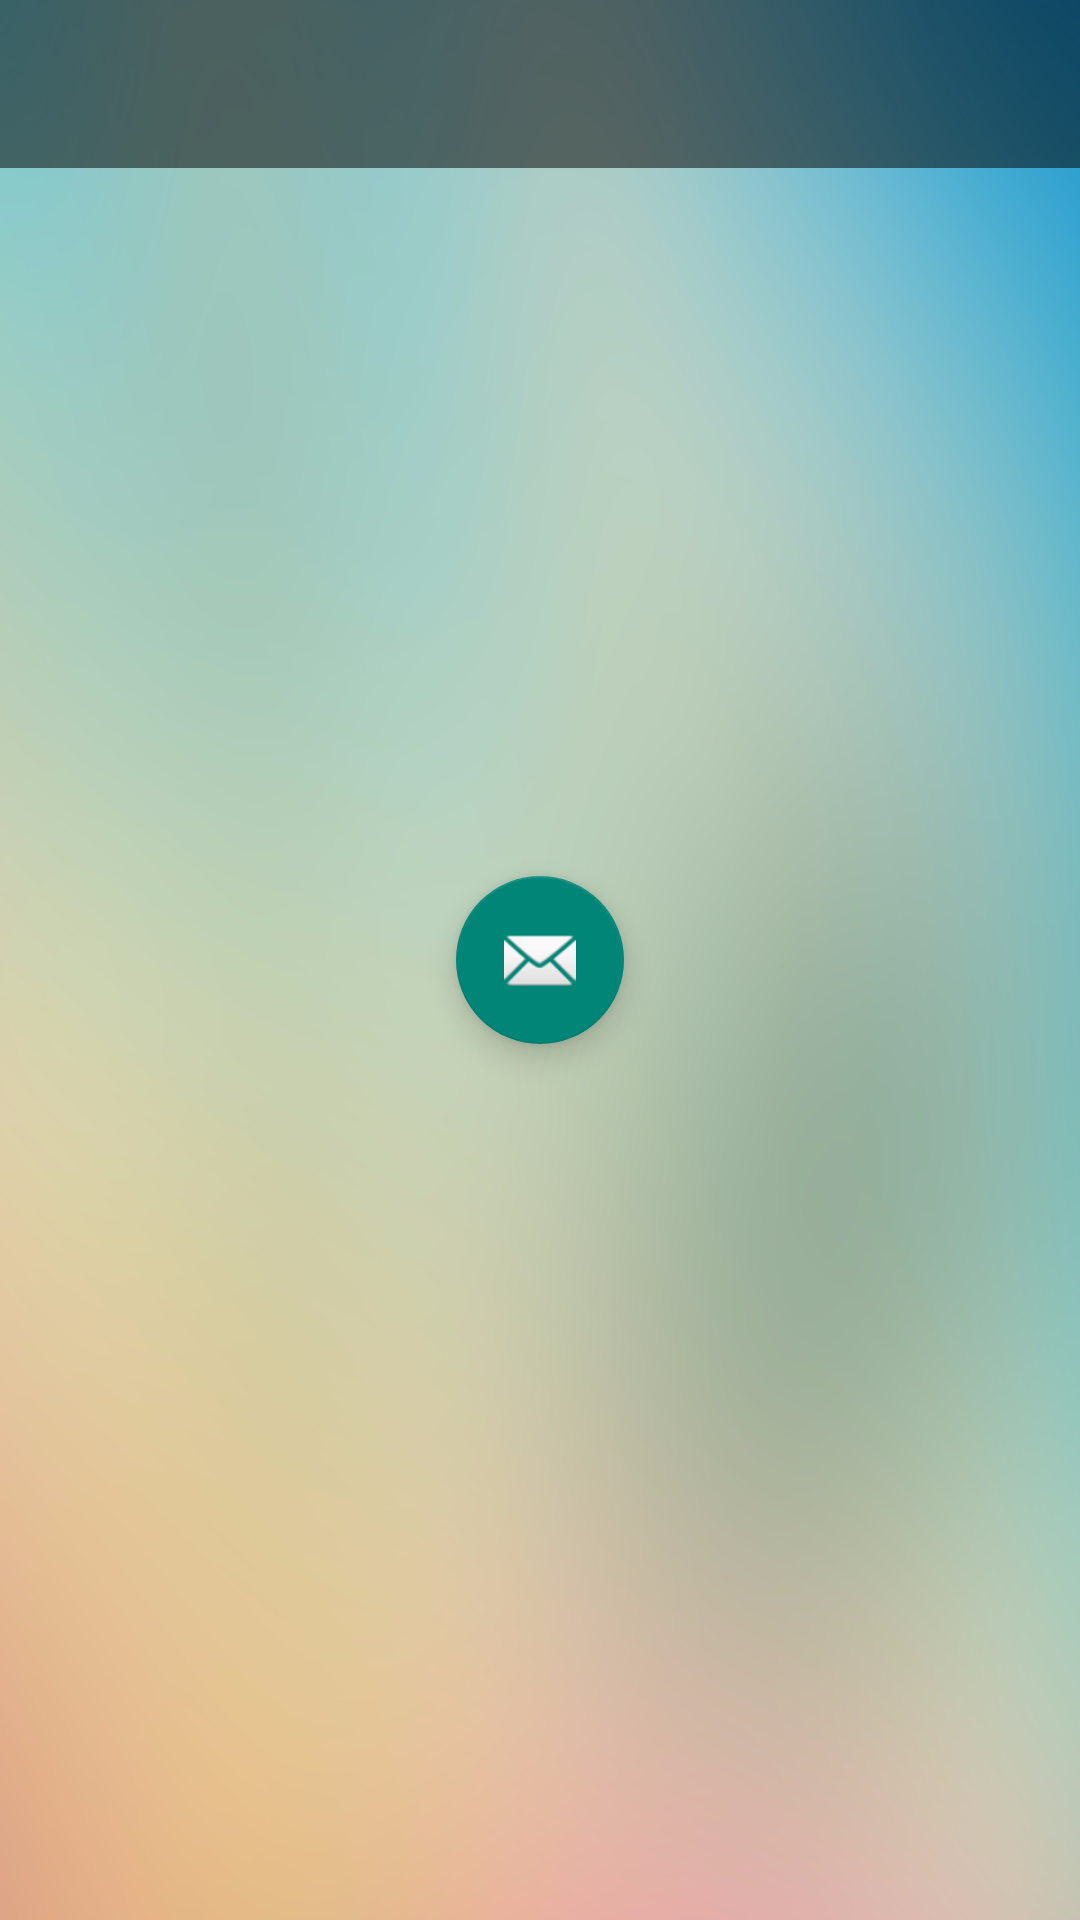

Named icons in this screenshot (1080*1920) and their bounding boxes, region(x1, y1, x2, y2):
email: region(456, 876, 624, 1044)
